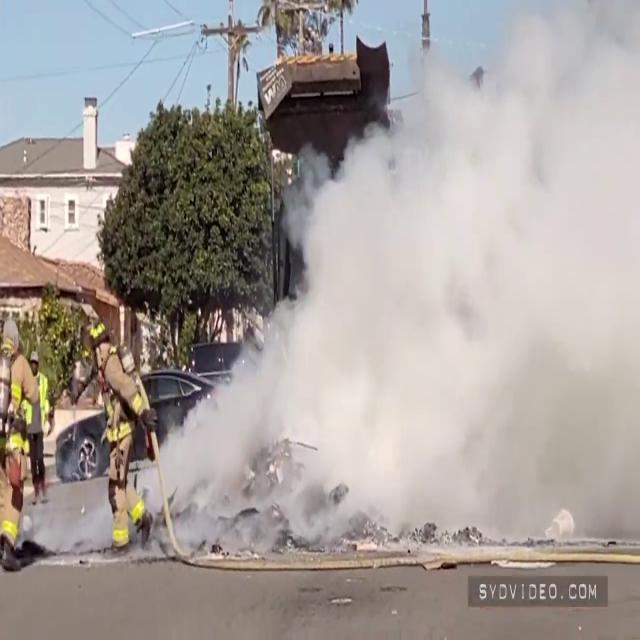Smoke: (165, 3, 640, 548)
